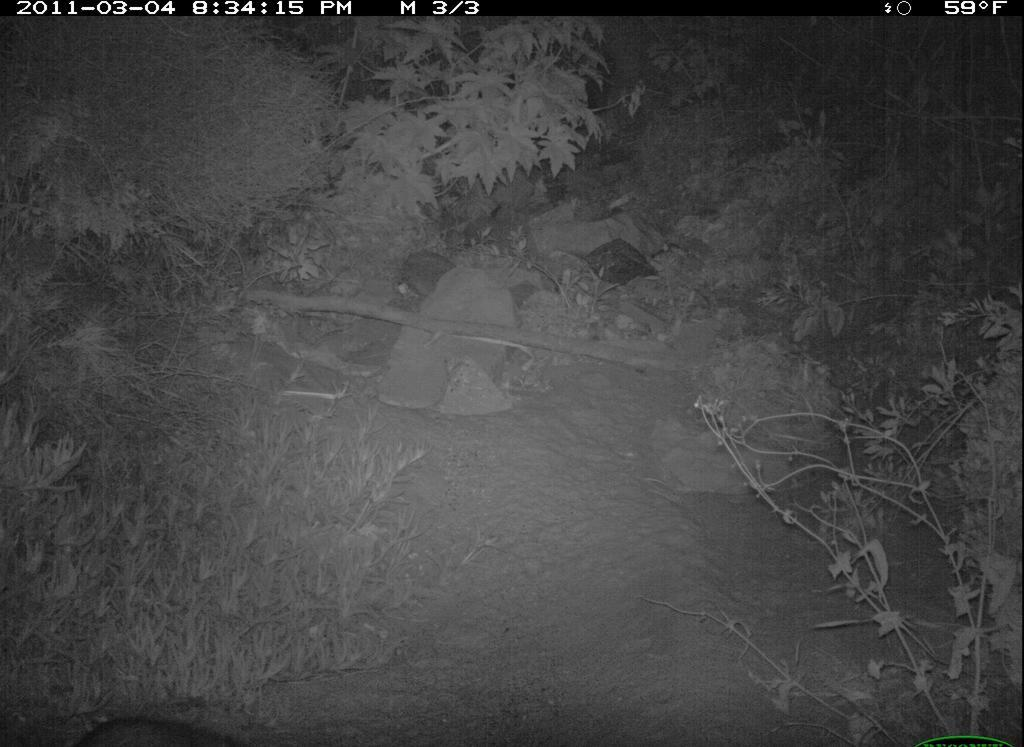raccoon: (58, 707, 267, 747)
